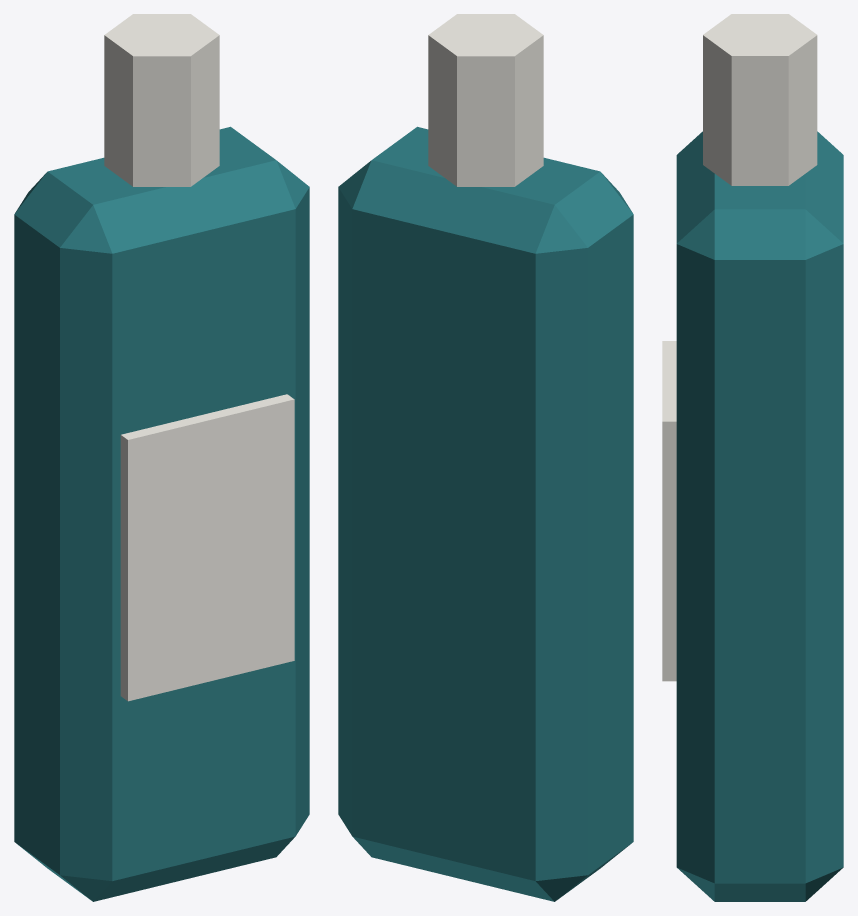
File: shampoo.fbx
3 views of the same model, side by side, from view 1: azimuth 30°, elevation 25°; view 2: azimuth 150°, elevation 25°; view 3: azimuth 270°, elevation 25° (orthographic).
Parts seen in each view (by area): view 1: shampoo; view 2: shampoo; view 3: shampoo.
Boxes of the visible parts, bbox=[...] form: shampoo: bbox=[14, 14, 309, 901]; shampoo: bbox=[338, 14, 633, 901]; shampoo: bbox=[662, 14, 843, 901].
Bounding box in the file's own units: 0.24 × 0.76 × 0.152.
